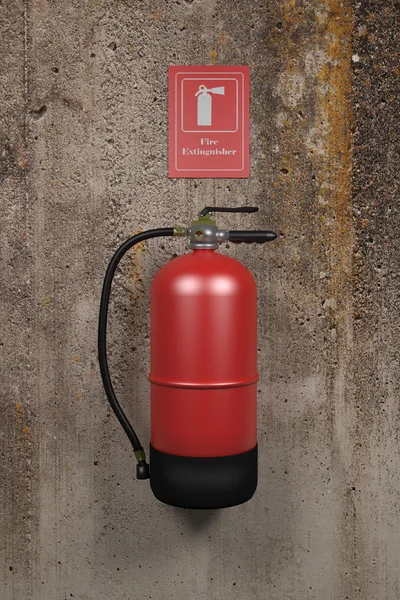fire_extinguisher: (98, 206, 278, 510)
